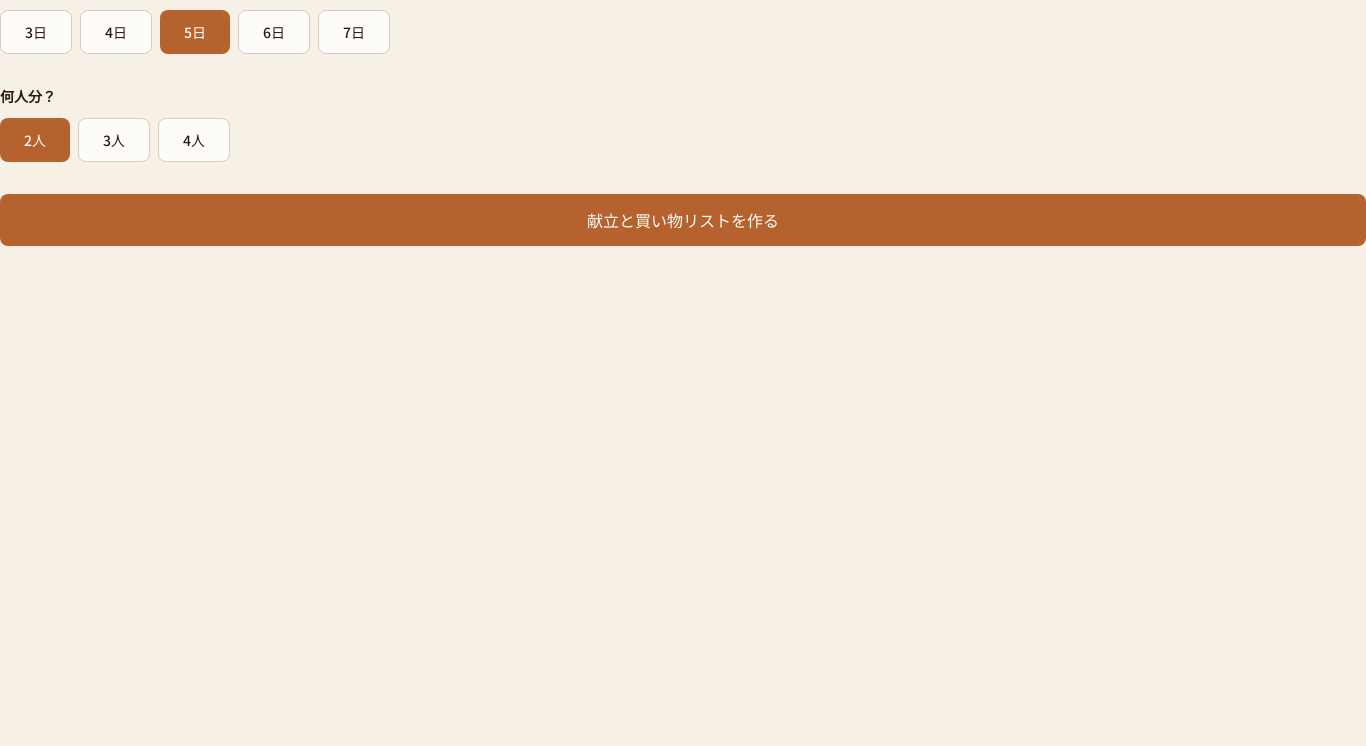
MealPlanner › 作成すると献立・買い物リスト・合計金額が出る
Click the button "献立と買い物リストを作る" at (683, 220), box [0,194,1365,246]
(page scrolled)
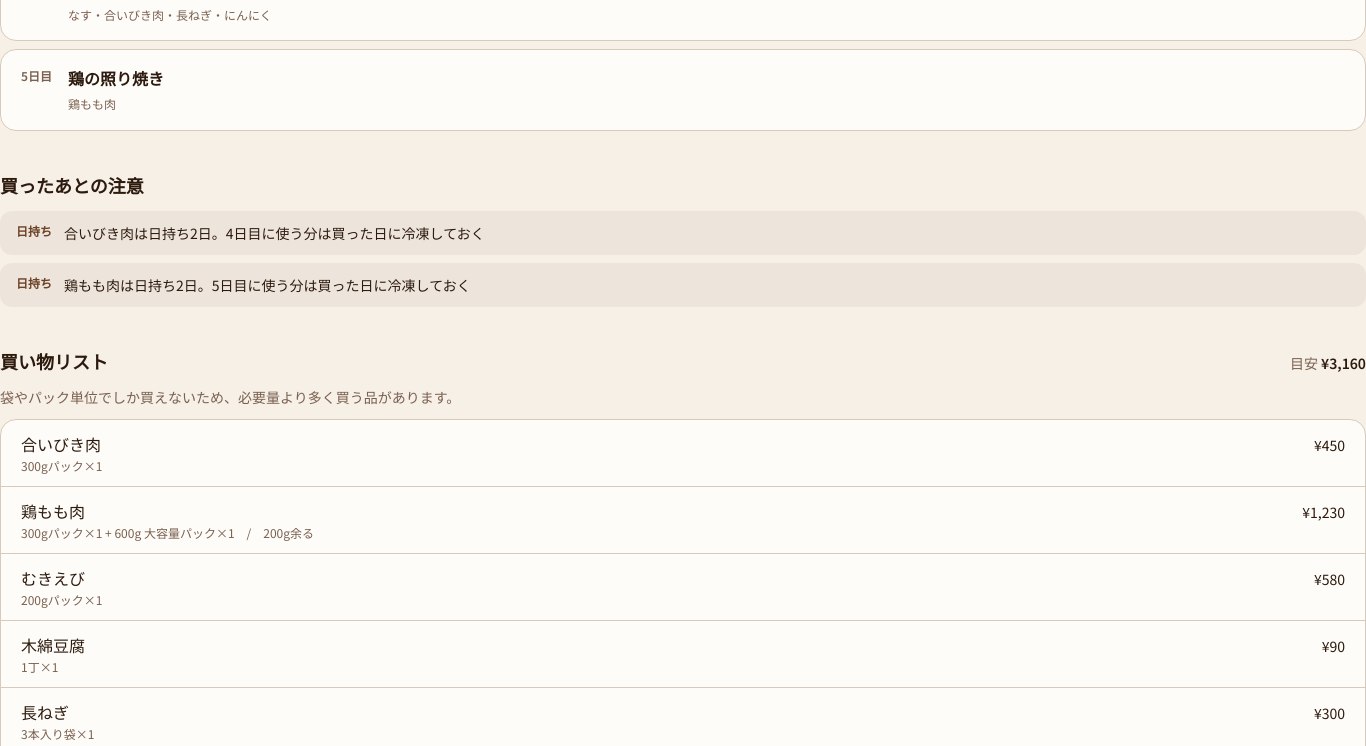
Expected: the heading "買い物リスト" is shown, [0,346,108,374]
Now the text "¥3,160" is shown, box [1321,352,1365,372]
